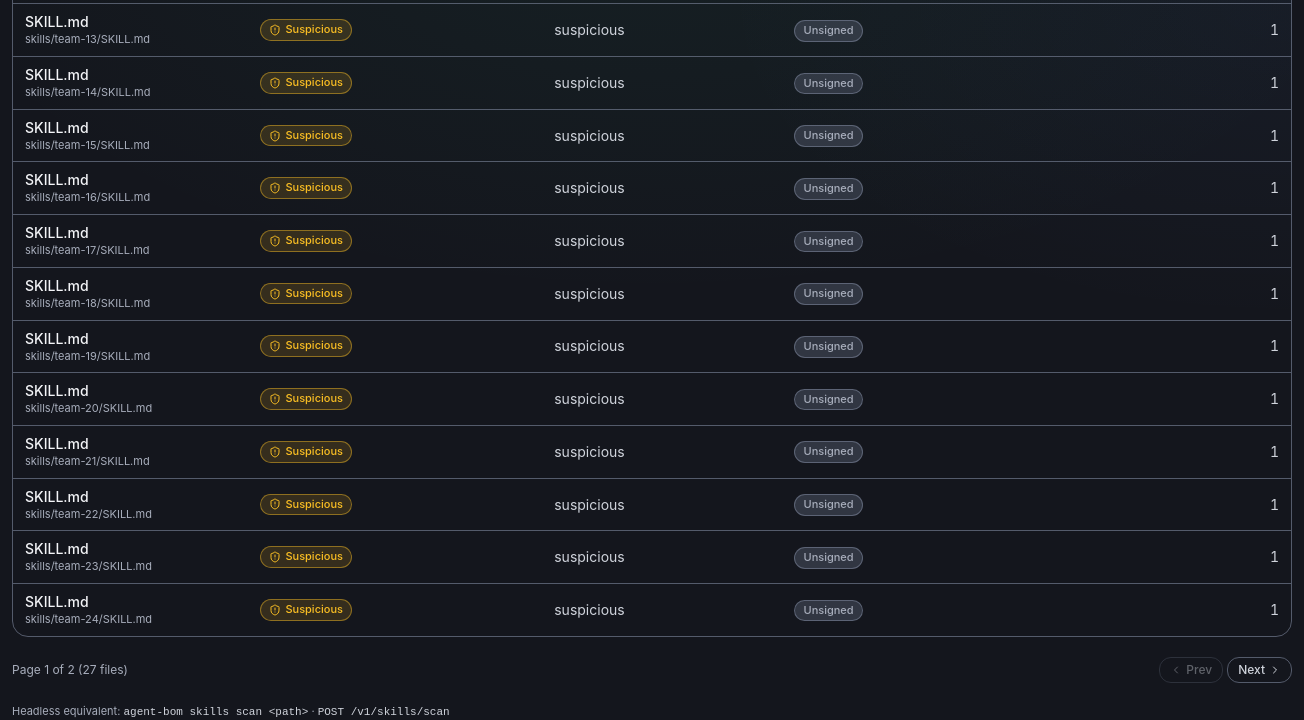
it: SkillsPage › paginates filtered files instead of rendering the whole result set
This screenshot has width=1304, height=720.
(page scrolled)
Expected: the text "Page 1 of 2 (27 files)" is shown, [12,662,128,678]
Click the button "Next": (1260, 670) [1227,657,1292,683]
(page scrolled)
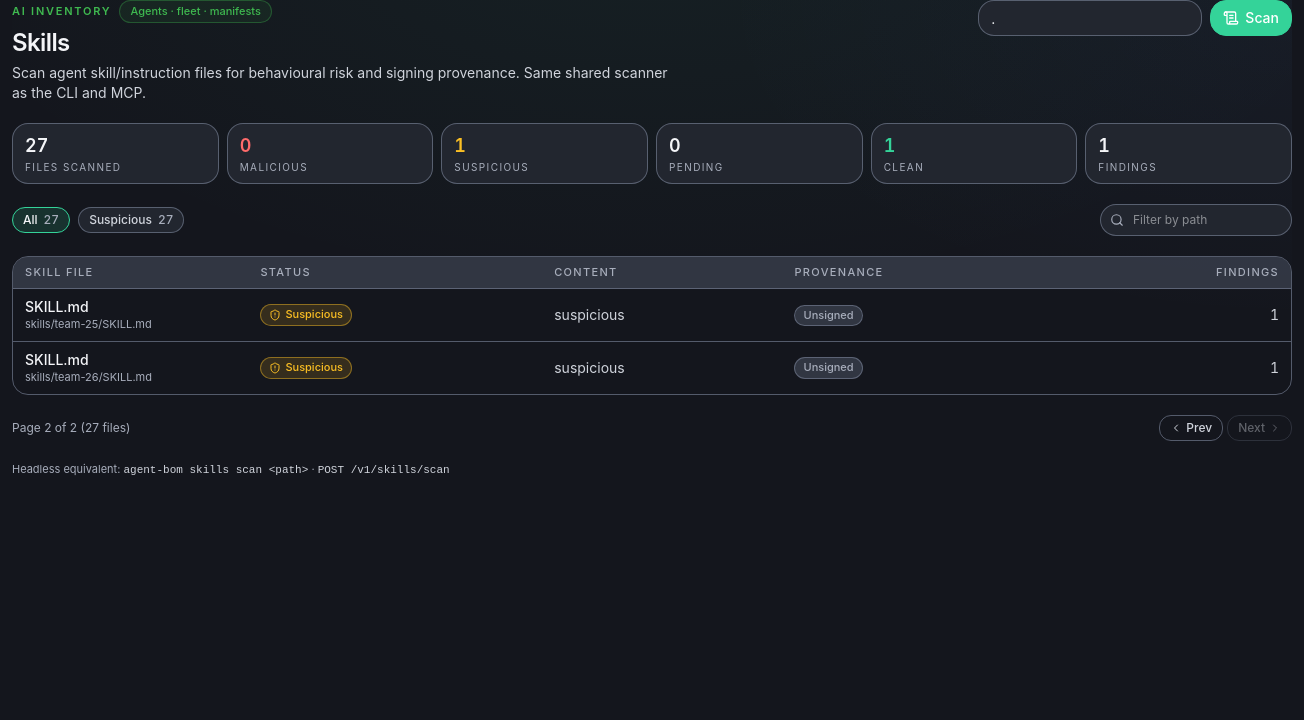
Result: the number of rows with test id "skills-row" is 2 at [13,289,1291,341]; [13,341,1291,394]
